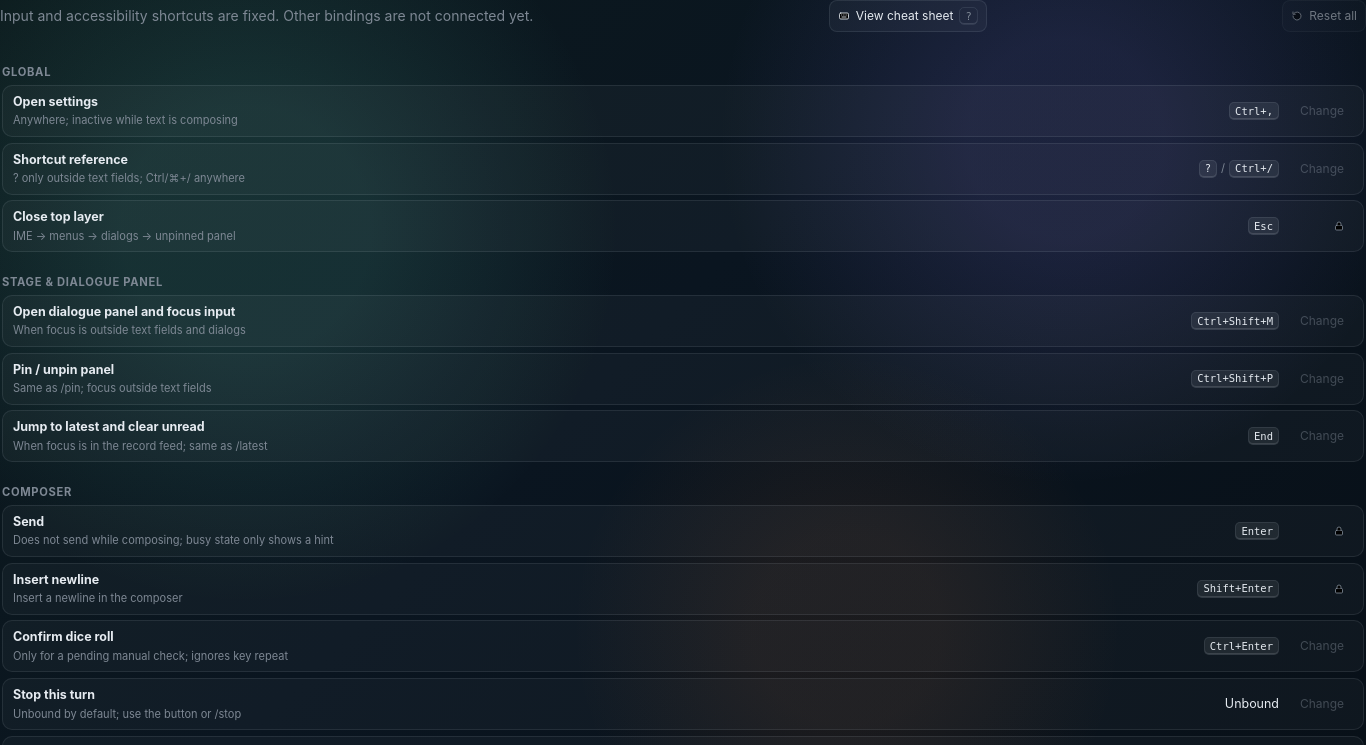
Test case: KeyboardShortcuts › matches the reference key, lock, and editable row treatment
The image size is (1366, 745).
Check: the text "Input and accessibility shortcuts are fixed. Other bindings are not connected yet." is shown, box [0,7,533,24]
Click the button "View cheat sheet ?" at (908, 16), box [829,0,987,32]
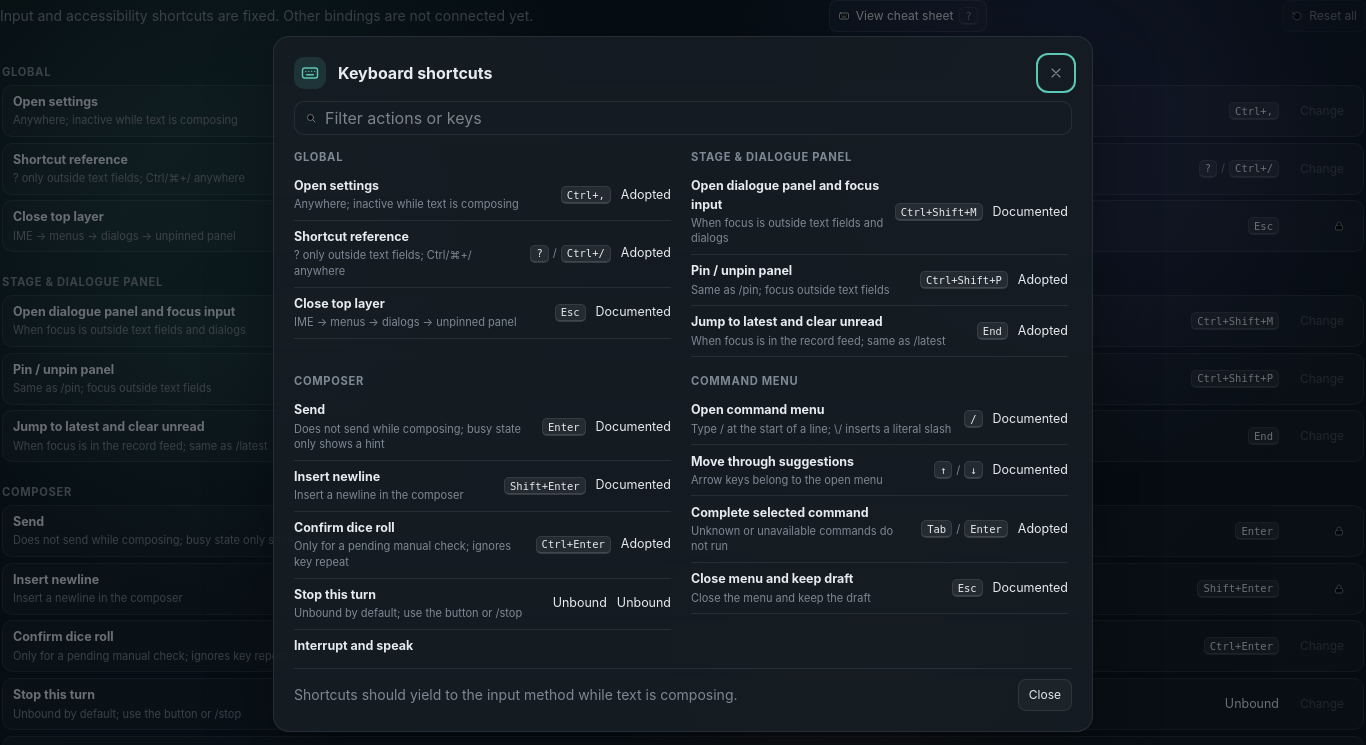
Check: the dialog is shown, box [273,36,1093,732]
Check: the search field with placeholder "Filter actions or keys" is shown
Type "Send" into the search field with placeholder "Filter actions or keys" at (693, 118), box [325,102,1061,134]
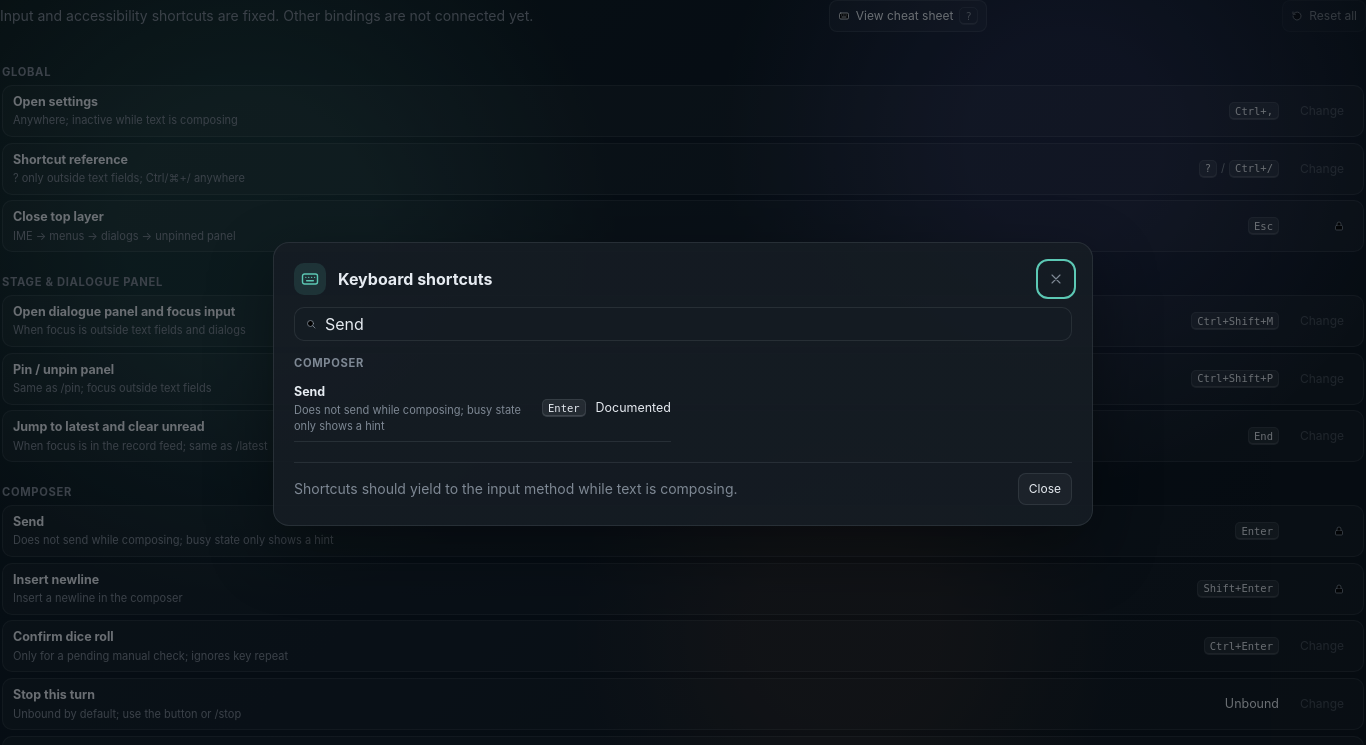
Check: the dialog shows "Send", box [294,384,325,399]
Click the button named "Close" at (1056, 279), box [1040,263,1072,295]
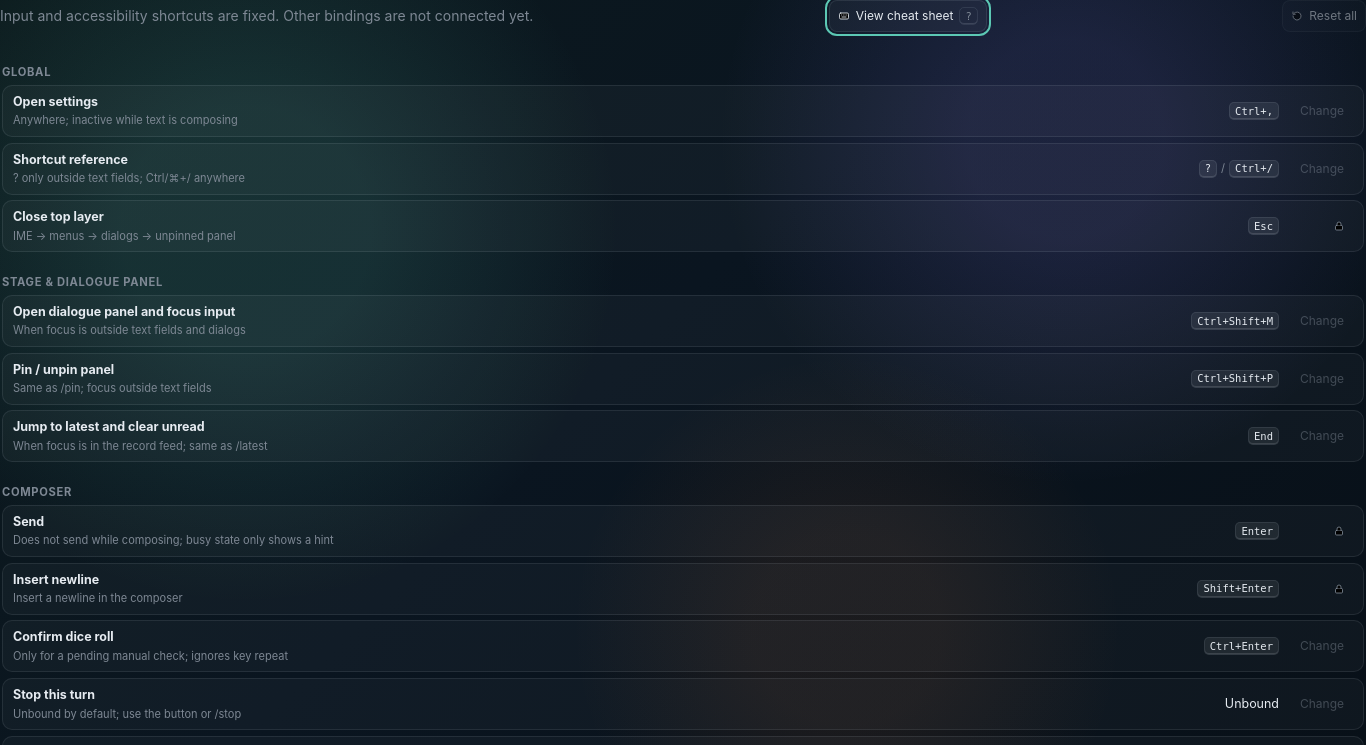
Check: the dialog is gone
